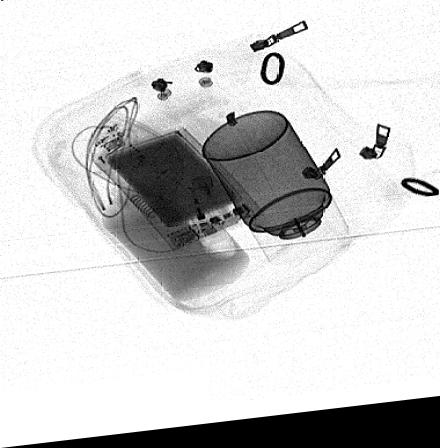Lighter: (187, 179, 228, 252)
Powerbank: (93, 131, 265, 256)
Sprayer: (201, 116, 350, 273)
